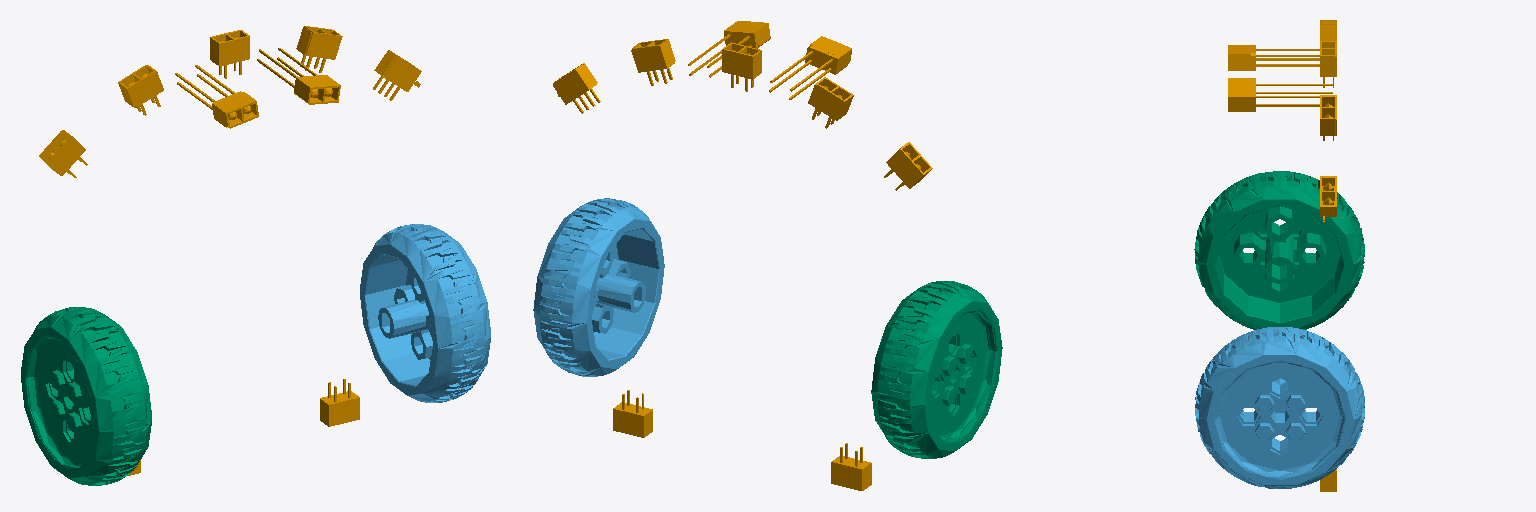
URDF robot description (thymio):
<?xml version="1.0"?>
<robot name="thymio">
  <link name="base_link">
    <inertial>
      <mass value="0.200" />
      <inertia
        ixx="0.00024282" ixy="0" ixz="0"
        iyy="0.00023542" iyz="0"
        izz="0.00041073" />
    </inertial>
    <collision>
      <geometry>
        <mesh filename="package://thymio_description/meshes/thymio_body_collision.dae"/>
      </geometry>
    </collision>
    <collision>
      <origin xyz="0.035 0 0" />
      <geometry>
        <sphere radius="0.009"/>
      </geometry>
    </collision>
    <visual>
      <geometry>
        <mesh filename="package://thymio_description/meshes/thymio_body.dae"/>
      </geometry>
    </visual>
    <visual>
      <geometry>
        <mesh filename="package://thymio_description/meshes/thymio_proximity_sensors.dae"/>
      </geometry>
    </visual>
  </link>
  <joint name="left_wheel_joint" type="continuous">
    <parent link="base_link" />
    <child link="left_wheel_link" />
    <axis xyz="0 1 0" />
    <origin xyz="-0.025 0.047 0.013"/>
  </joint>
  <link name="left_wheel_link">
    <inertial>
      <mass value="0.025"/>
      <inertia
        ixx="0.00000363" ixy="0" ixz="0"
        iyy="0.00000605" iyz="0"
        izz="0.00000363" />
    </inertial>
    <collision>
      <origin xyz="0 0.00175 0" rpy="1.5707 0 0"/>
      <geometry>
        <cylinder radius="0.022" length="0.015"/>
      </geometry>
    </collision>
    <visual>
      <geometry>
        <mesh filename="package://thymio_description/meshes/thymio_left_wheel.dae"/>
      </geometry>
    </visual>
  </link>
  <joint name="right_wheel_joint" type="continuous">
    <parent link="base_link" />
    <child link="right_wheel_link" />
    <axis xyz="0 1 0" />
    <origin xyz="-0.025 -0.047 0.013"/>
  </joint>
  <link name="right_wheel_link">
    <inertial>
      <mass value="0.025"/>
      <inertia
        ixx="0.00000363" ixy="0" ixz="0"
        iyy="0.00000605" iyz="0"
        izz="0.00000363" />
    </inertial>
    <collision>
      <origin xyz="0 -0.00175 0" rpy="1.5707 0 0"/>
      <geometry>
        <cylinder radius="0.022" length="0.015"/>
      </geometry>
    </collision>
    <visual>
      <geometry>
        <mesh filename="package://thymio_description/meshes/thymio_right_wheel.dae"/>
      </geometry>
    </visual>
  </link>
  <link name="proximity_center_link"/>
  <link name="proximity_center_left_link"/>
  <link name="proximity_center_right_link"/>
  <link name="proximity_right_link"/>
  <link name="proximity_left_link"/>
  <link name="proximity_rear_right_link"/>
  <link name="proximity_rear_left_link"/>
  <link name="ground_right_link"/>
  <link name="ground_left_link"/>
  <joint name="proximity_center_joint" type="fixed">
    <origin xyz="0.055 0 0.026" rpy="0 0 0"/>
    <parent link="base_link"/>
    <child link="proximity_center_link"/>
  </joint>
  <joint name="proximity_center_left_joint" type="fixed">
    <origin xyz="0.0509 0.0252 0.026" rpy="0 0 0.32"/>
    <parent link="base_link"/>
    <child link="proximity_center_left_link"/>
  </joint>
  <joint name="proximity_left_joint" type="fixed">
    <origin xyz="0.0392 0.0478 0.026" rpy="0 0 0.64"/>
    <parent link="base_link"/>
    <child link="proximity_left_link"/>
  </joint>
  <joint name="proximity_center_right_joint" type="fixed">
    <origin xyz="0.0509 -0.0252 0.026" rpy="0 0 -0.32"/>
    <parent link="base_link"/>
    <child link="proximity_center_right_link"/>
  </joint>
  <joint name="proximity_right_joint" type="fixed">
    <origin xyz="0.0392 -0.0478 0.026" rpy="0 0 -0.64"/>
    <parent link="base_link"/>
    <child link="proximity_right_link"/>
  </joint>
  <joint name="proximity_rear_left_joint" type="fixed">
    <origin xyz="-0.055 0.03 0.026" rpy="0 0 3.1416"/>
    <parent link="base_link"/>
    <child link="proximity_rear_left_link"/>
  </joint>
  <joint name="proximity_rear_right_joint" type="fixed">
    <origin xyz="-0.055 -0.03 0.026" rpy="0 0 3.1416"/>
    <parent link="base_link"/>
    <child link="proximity_rear_right_link"/>
  </joint>
  <joint name="ground_right_joint" type="fixed">
    <origin xyz="0.04657 -0.01155 0.0" rpy="0 1.5708 0"/>
    <parent link="base_link"/>
    <child link="ground_right_link"/>
  </joint>
  <joint name="ground_left_joint" type="fixed">
    <origin xyz="0.04657 0.01155 0.0" rpy="0 1.5708 0"/>
    <parent link="base_link"/>
    <child link="ground_left_link"/>
  </joint>
</robot>

--- Render facts (derived) ---
Views: 3 orthographic renders of the robot side by side, from view 1: azimuth 30°, elevation 25°; view 2: azimuth 150°, elevation 25°; view 3: azimuth 270°, elevation 25°.
Robot: thymio — 12 links, 11 joints (2 continuous, 9 fixed); root link base_link; default pose: every joint at zero.
Links seen in each view (by area): view 1: left_wheel_link, right_wheel_link, base_link; view 2: right_wheel_link, left_wheel_link, base_link; view 3: left_wheel_link, right_wheel_link, base_link.
Link boxes in pixels (bbox=[...]): left_wheel_link: bbox=[360, 224, 490, 402]; right_wheel_link: bbox=[21, 307, 151, 485]; base_link: bbox=[39, 26, 421, 475]; right_wheel_link: bbox=[871, 281, 1002, 458]; left_wheel_link: bbox=[533, 198, 664, 376]; base_link: bbox=[553, 21, 932, 490]; left_wheel_link: bbox=[1195, 327, 1364, 488]; right_wheel_link: bbox=[1194, 171, 1364, 329]; base_link: bbox=[1228, 20, 1336, 491].
Size in the robot's own frame: 110 by 44.03 by 110 metres.
Meshes: 4 distinct files referenced, 3 mesh visuals loaded (3 Collada DAE); not drawn: 1 (reference not matched to a file when rendering).